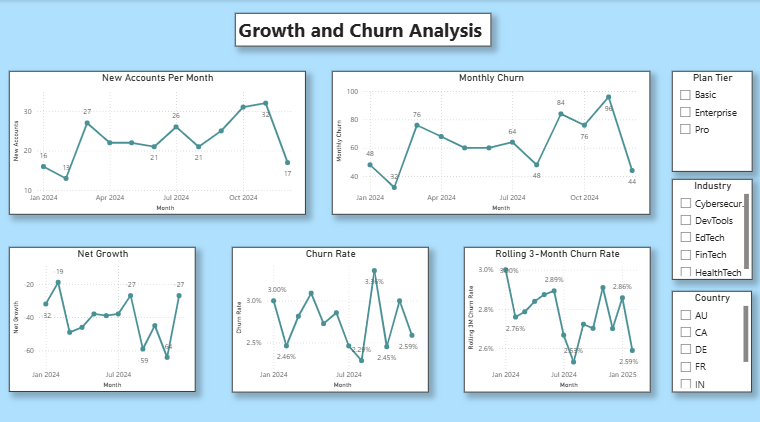

The page's visual inventory and layout, read from the dashboard file:
{"tool":"powerbi","page":{"name":"Page 2","canvas":[1280,720],"ordinal":1},"visuals":[{"type":"clusteredColumnChart","title":"New Accounts Per Month","fields":{"Category":["MonthTable_Summary.MonthStart"],"Y":["clean accounts.New Accounts"],"Series":["clean accounts.plan_tier"]},"box":[24.1,98.9,524.8,241.3],"z":0},{"type":"lineChart","title":"Monthly Churn","fields":{"Y":["clean accounts.Monthly Churn"],"Category":["MonthTable_Summary.MonthStart"]},"box":[557.4,98.9,556.2,241.3],"z":1000},{"type":"lineChart","title":"Churn Rate","fields":{"Category":["MonthTable_Summary.MonthStart"],"Y":["clean accounts.Churn Rate"]},"box":[266.6,359.5,415,334.2],"z":2000},{"type":"pivotTable","title":"Net Growth","fields":{"Values":["clean accounts.Net Growth"],"Rows":["MonthTable_Summary.MonthStart.Variation.Date Hierarchy.Year","MonthTable_Summary.MonthStart.Variation.Date Hierarchy.Quarter","MonthTable_Summary.MonthStart.Variation.Date Hierarchy.Month","MonthTable_Summary.MonthStart.Variation.Date Hierarchy.Day"]},"box":[24.1,359.5,223.2,334.2],"z":3000},{"type":"lineChart","title":"Rolling 3-Month Churn Rate","fields":{"Y":["clean accounts.Rolling 3M Churn Rate"],"Category":["MonthTable_Summary.MonthStart"]},"box":[693.7,359.5,428.3,334.2],"z":4000},{"type":"slicer","title":"Plan Tier","fields":{"Values":["clean accounts.plan_tier"]},"box":[1130.4,98.9,133.9,184.6],"z":5000},{"type":"slicer","title":"Industry","fields":{"Values":["clean accounts.industry"]},"box":[1130.4,301.6,133.9,190.6],"z":6000},{"type":"textbox","box":[474.1,27.7,383.6,55.5],"z":7000},{"type":"slicer","title":"Country","fields":{"Values":["clean accounts.country"]},"box":[1130.4,505.5,133.9,189.4],"z":8000}]}

Visuals, with their boxes in screenshot pixels (x1, y1, x2, y2), scaled from the page's 1280x720 canvas onto the 760x422 screenshot:
"New Accounts Per Month" clusteredColumnChart: 14, 58, 326, 199
"Monthly Churn" lineChart: 331, 58, 661, 199
"Churn Rate" lineChart: 158, 211, 405, 407
"Net Growth" pivotTable: 14, 211, 147, 407
"Rolling 3-Month Churn Rate" lineChart: 412, 211, 666, 407
"Plan Tier" slicer: 671, 58, 751, 166
"Industry" slicer: 671, 177, 751, 288
textbox: 281, 16, 509, 49
"Country" slicer: 671, 296, 751, 407
